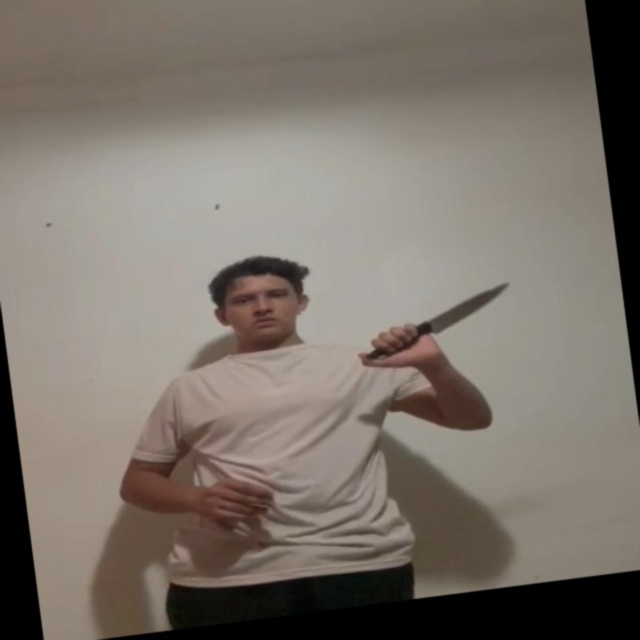Sharp-Object: (422, 283, 512, 332)
